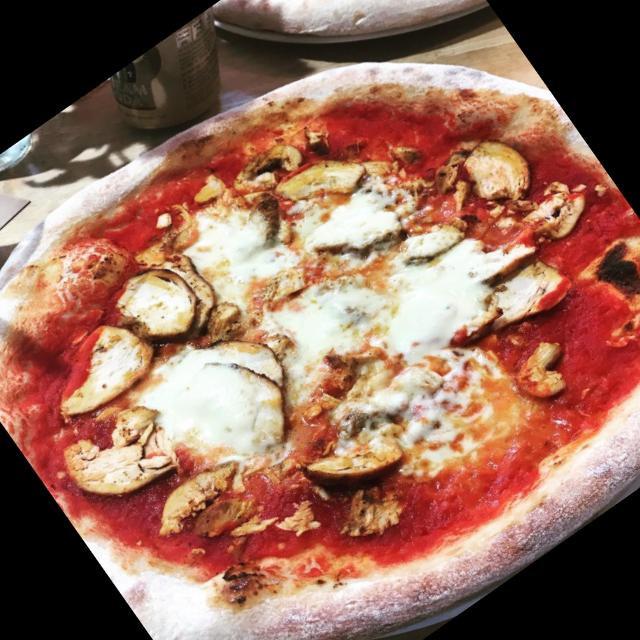mushrooms: (160, 321, 310, 476), (16, 310, 160, 442), (53, 396, 181, 518), (295, 398, 416, 512), (101, 248, 211, 359), (471, 242, 588, 346), (267, 131, 375, 227), (144, 448, 252, 542), (449, 124, 542, 218), (329, 472, 421, 554), (222, 128, 310, 206), (392, 204, 474, 278), (512, 177, 584, 246), (508, 337, 576, 402), (267, 495, 325, 547)
pizza: (0, 62, 640, 640), (210, 0, 489, 37)
